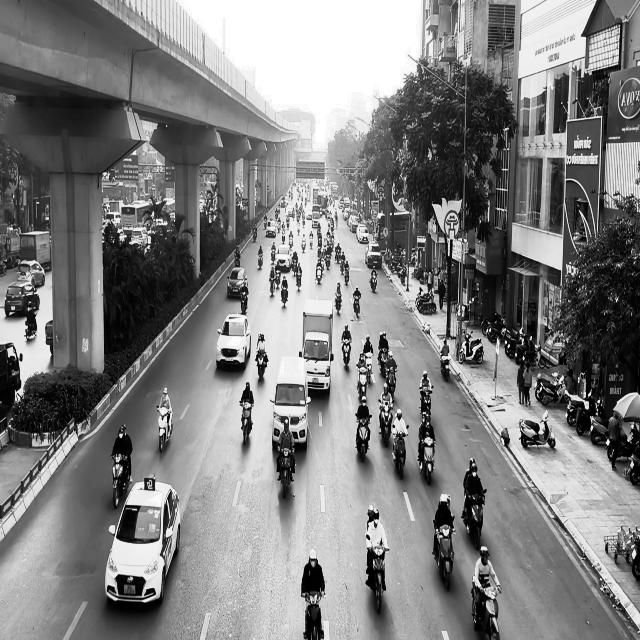car: (105, 474, 181, 606), (216, 313, 251, 370), (4, 280, 40, 316), (1, 341, 23, 399), (227, 266, 248, 298)
motorbike: (432, 517, 456, 590), (367, 541, 390, 613), (463, 486, 487, 550), (519, 410, 556, 449), (301, 589, 326, 639), (111, 453, 131, 508), (276, 444, 296, 498), (392, 424, 409, 479), (419, 434, 436, 485), (356, 414, 372, 462), (157, 405, 173, 452), (379, 398, 394, 446), (240, 400, 254, 445), (419, 386, 434, 420), (356, 364, 368, 399), (256, 350, 268, 382), (440, 352, 452, 380), (342, 338, 352, 370), (240, 290, 248, 314), (354, 293, 361, 317), (370, 272, 378, 292), (281, 286, 289, 306), (335, 292, 342, 314)
